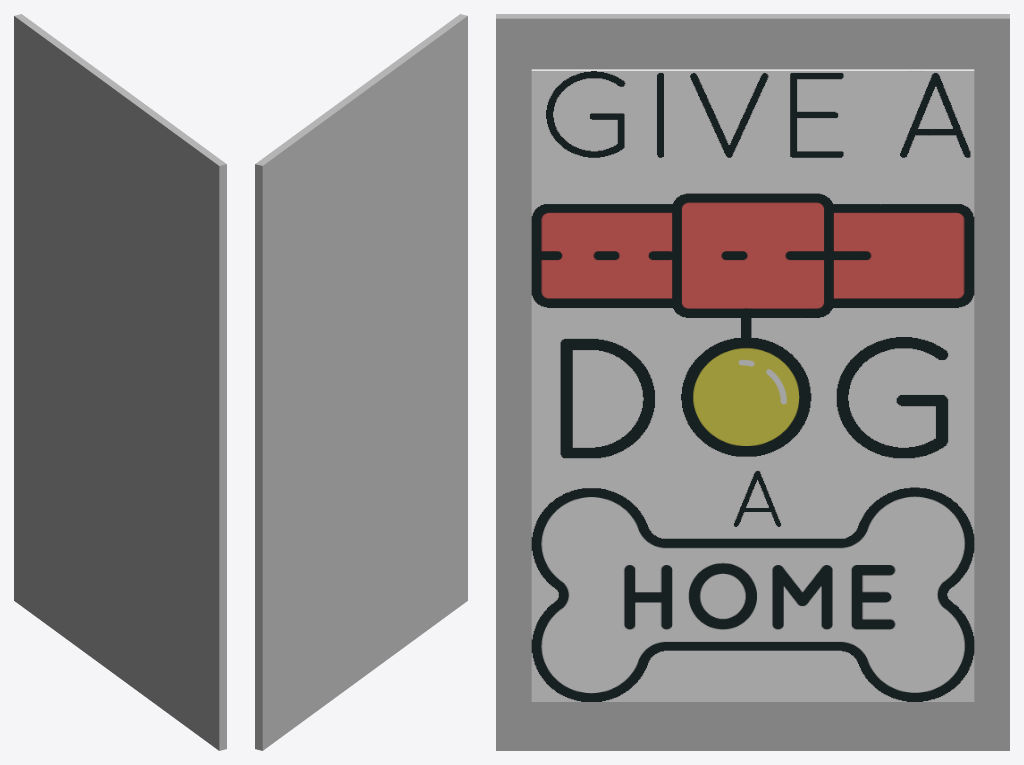
File: AdoptionSign.fbx
The picture shows the model from 3 angles, left to right: view 1: azimuth 30°, elevation 25°; view 2: azimuth 150°, elevation 25°; view 3: azimuth 270°, elevation 25°; orthographic projection. The views are drawn at different scales.
Visible parts, largest first — view 1: backdrop_geo; view 2: backdrop_geo; view 3: logo_geo, backdrop_geo.
Part boxes in pixels (left/top/right/bottom): backdrop_geo: left=14, top=14, right=226, bottom=750; backdrop_geo: left=255, top=14, right=467, bottom=750; logo_geo: left=531, top=69, right=974, bottom=701; backdrop_geo: left=496, top=14, right=1009, bottom=750.
Size of the model in its own units: 0.2737 by 14.58 by 9.27.
Materials: 2 (1 with a texture image).
